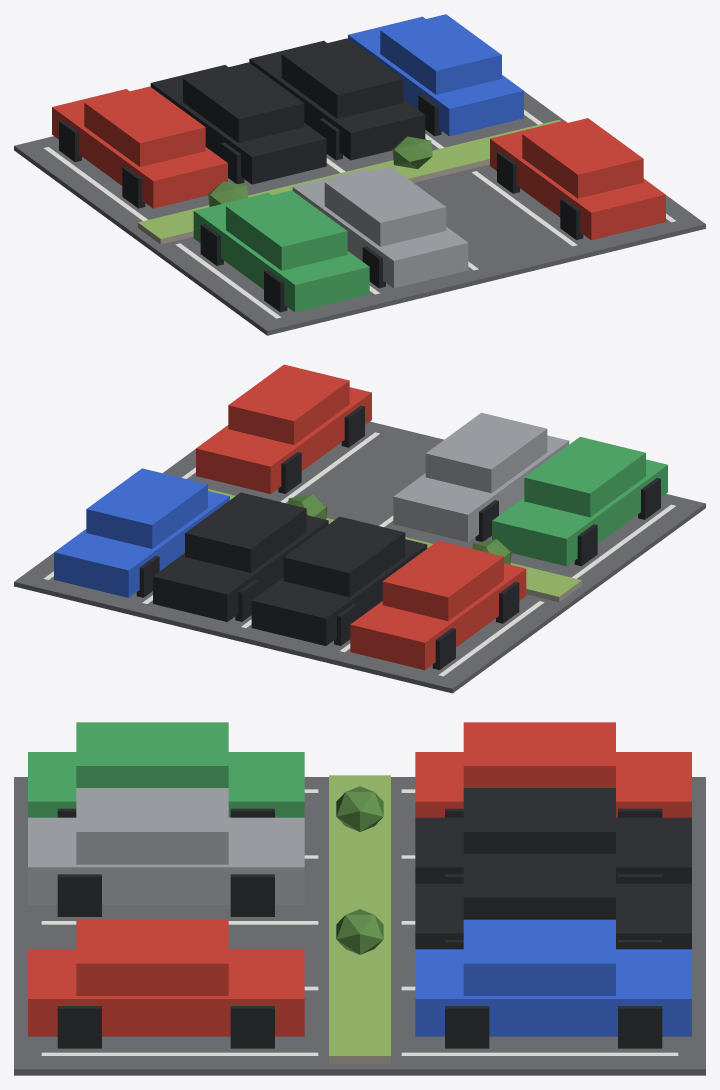
File: Avlu_otopark_Hafif.fbx
The picture shows the model from 3 angles, top to bottom: view 1: azimuth 30°, elevation 25°; view 2: azimuth 150°, elevation 25°; view 3: azimuth 270°, elevation 25°; orthographic projection. The views are drawn at different scales.
Visible parts, largest first — view 1: Avlu_otopark_Hafif; view 2: Avlu_otopark_Hafif; view 3: Avlu_otopark_Hafif.
Boxes of the visible parts, x1,y1,x2,y2 form: Avlu_otopark_Hafif: [14, 14, 705, 335]; Avlu_otopark_Hafif: [14, 364, 705, 693]; Avlu_otopark_Hafif: [14, 722, 705, 1075].
Bounding box in the file's own units: 10 × 1.37 × 10.
